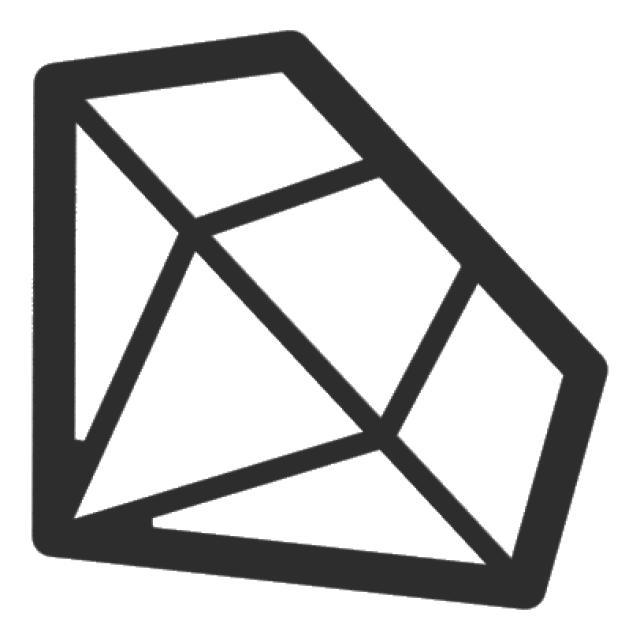diamond: (23, 16, 624, 616)
